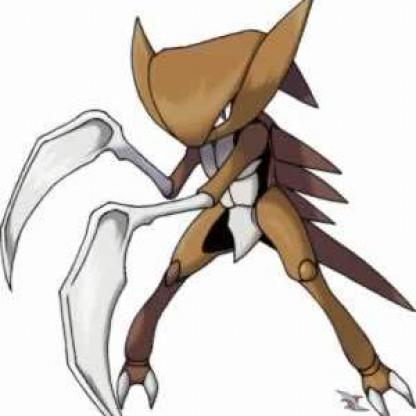Kabutops: (1, 7, 416, 416)
